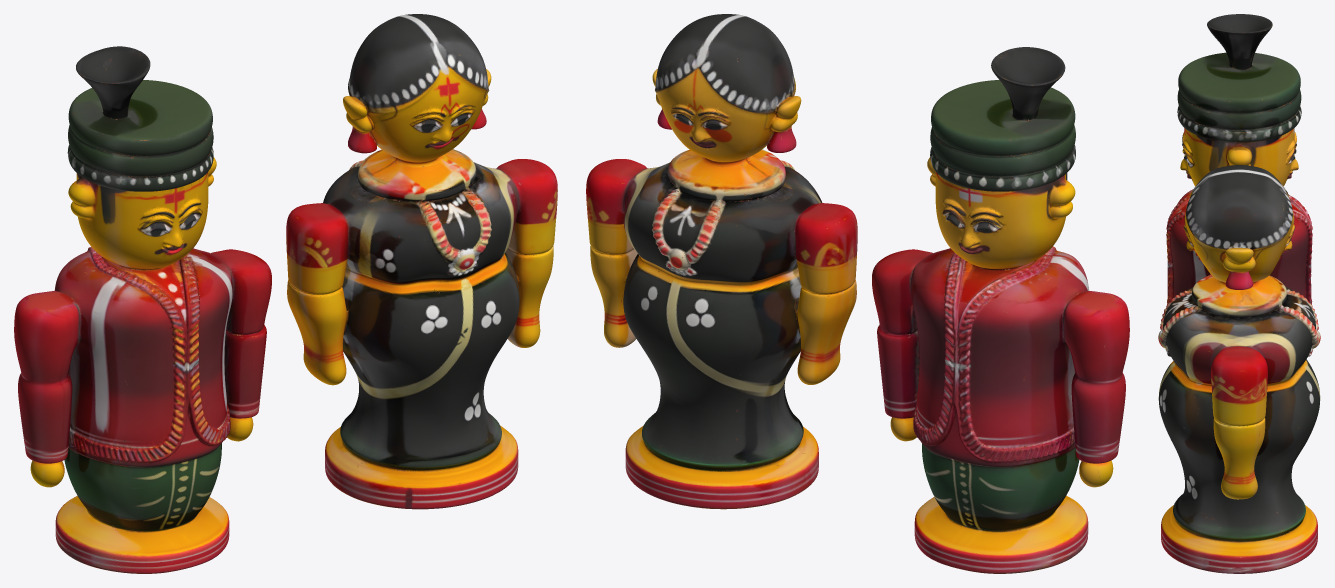
Rendered from kondapalli.glb.
3 renders of one model, left to right at view 1: azimuth 30°, elevation 25°; view 2: azimuth 150°, elevation 25°; view 3: azimuth 270°, elevation 25°, orthographic. The views are drawn at different scales.
Bounding box in the file's own units: 2 × 1.73 × 0.6394.
Materials: 1 (1 with a texture image).
